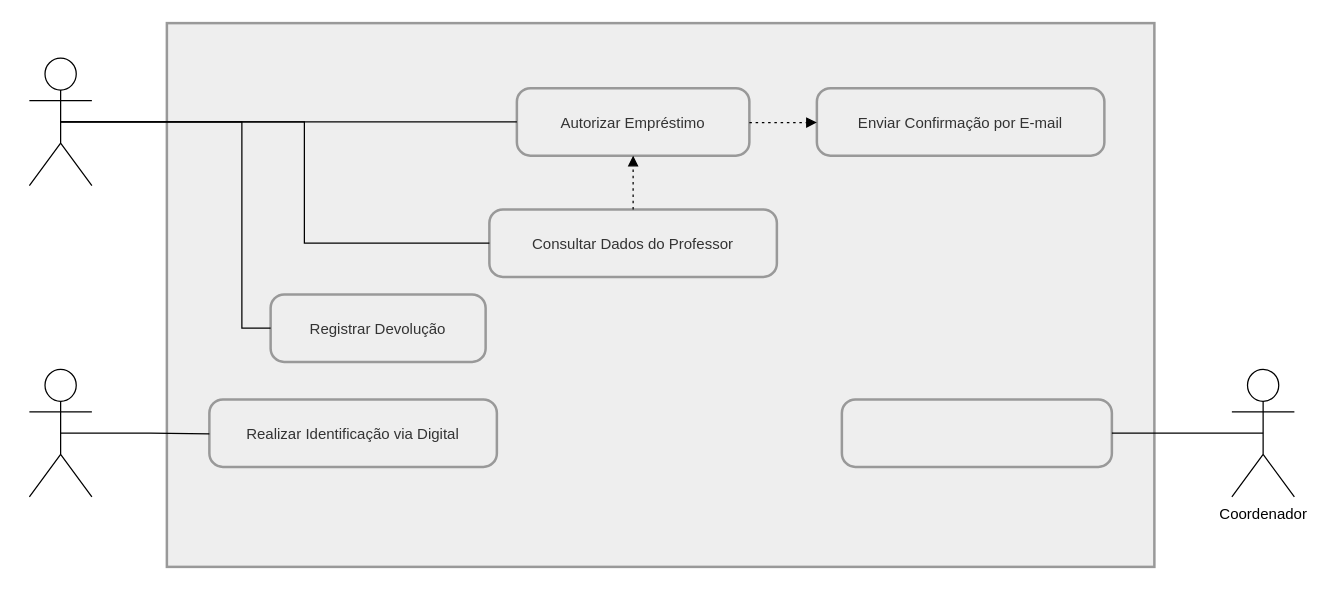
Image size: 1329x589. Some labels were removed from this diagram. Here are the shapes that lost their labels. From the top down, the centre of each, then its label:
At [60,121]: "Funcionário".
At [60,432]: "Professor".
At [976,433]: "Visualizar Métricas de Uso".
